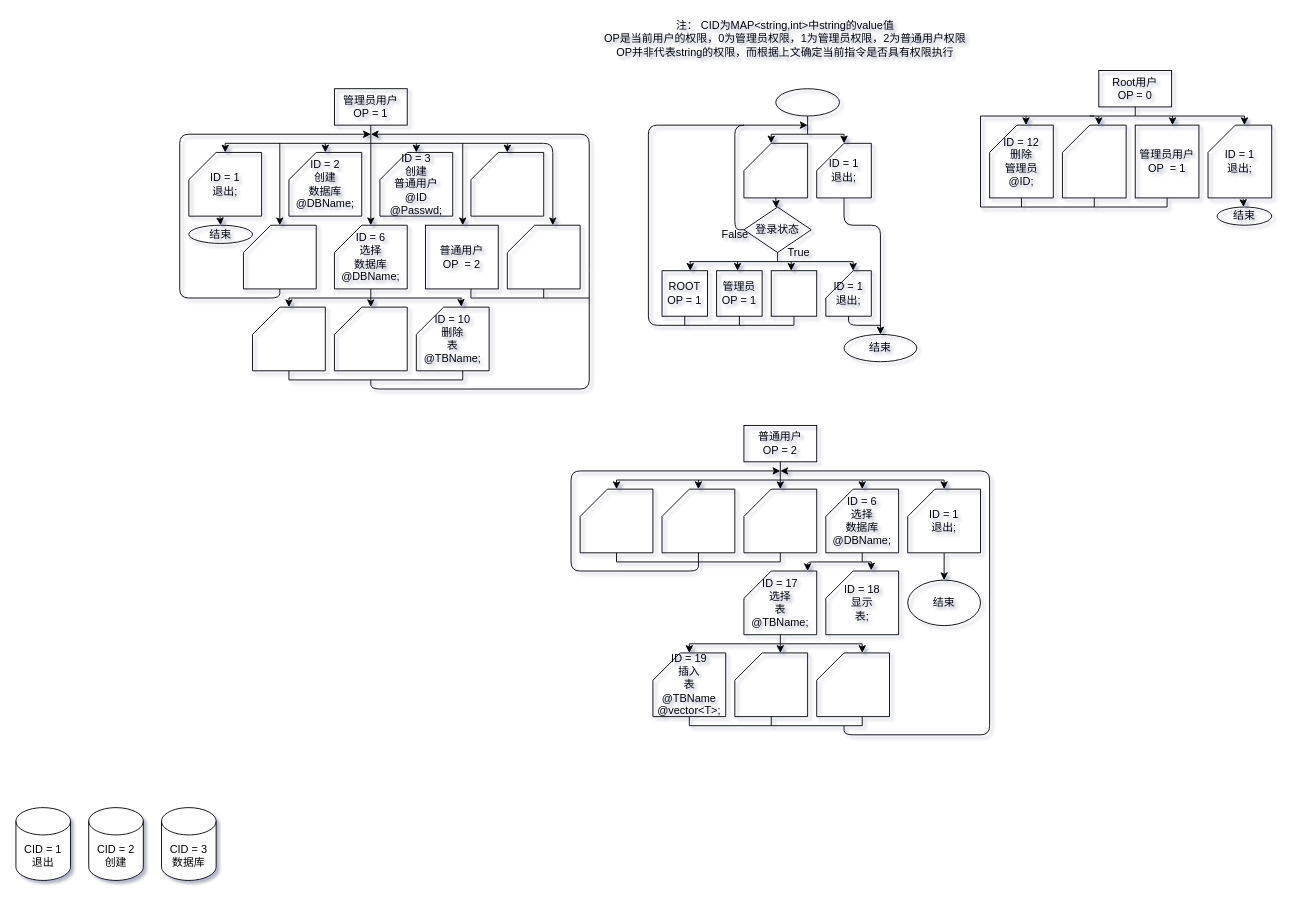
The diagram is 1293 pixels wide and 902 high, and some of its shapes have lost their labels. The shapes that lost their labels are listed below. From the top down, each one's centre as x and y in pixels, then its label:
At point 807,102: "开始".
At point 775,170: "ID = 11 登录 @ID @Passwd;".
At point 1094,161: "ID = 13 创建 管理员 @ID @Passwd;".
At point 507,184: "ID = 4 删除 普通用户 @ID;".
At point 279,256: "ID = 5 删除 数据库 @DBName;".
At point 543,256: "ID = 7 重命名 数据库 @OldName; @NewName;".
At point 793,293: "普通用户 OP = 1".
At point 288,338: "ID = 8 创建 表 @TBName;".
At point 370,338: "ID = 9 重命名 表 @OldName @NewName;".
At point 616,520: "ID = 14 显示 数据库 @DBName;".
At point 698,520: "ID = 15 显示 数据库;".
At point 780,520: "ID = 16 显示 数据;".
At point 771,684: "ID = 20 显示 表 内容;".
At point 853,684: "ID = 21 查询 表 @TBName @TBIndex;".
